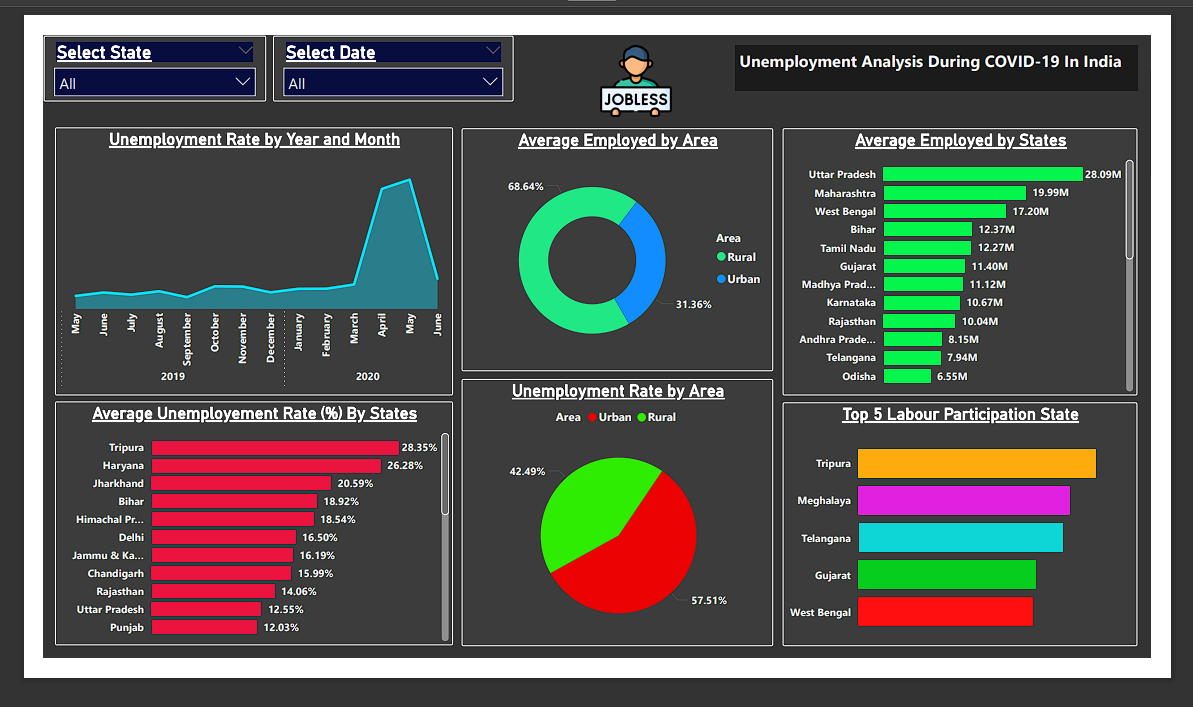

The dashboard page shown, as its layout file describes it:
{"tool":"powerbi","page":{"name":"Page 1","canvas":[1280,720],"ordinal":0},"visuals":[{"type":"clusteredBarChart","title":"Average Unemployement Rate (%) By States","fields":{"Category":["Unemployment in India.Region"],"Y":["Avg(Unemployment in India.Percentage)"]},"box":[12.5,422.5,460,282.5],"z":0},{"type":"stackedAreaChart","title":"Unemployment Rate by Year and Month","fields":{"Category":["Unemployment in India. Date.Variation.Date Hierarchy.Year","Unemployment in India. Date.Variation.Date Hierarchy.Month"],"Y":["Sum(Unemployment in India. Estimated Unemployment Rate (%))"]},"box":[12.9,105.7,460,310],"z":1000},{"type":"pieChart","title":"Unemployment Rate by Area","fields":{"Category":["Unemployment in India.Area"],"Y":["Sum(Unemployment in India. Estimated Unemployment Rate (%))"]},"box":[482.6,396.9,360.7,308.8],"z":2000},{"type":"clusteredBarChart","title":"Top 5 Labour Participation State","fields":{"Category":["Unemployment in India.Region"],"Y":["Sum(Unemployment in India. Estimated Labour Participation Rate (%))"]},"box":[853.8,423.8,410,282.5],"z":3000},{"type":"barChart","title":"Average Employed by States","fields":{"Category":["Unemployment in India.Region"],"Y":["Avg(Unemployment in India. Estimated Employed)"]},"box":[854.3,107.1,410,308.6],"z":4000},{"type":"donutChart","title":"Average Employed by Area","fields":{"Category":["Unemployment in India.Area"],"Y":["Sum(Unemployment in India. Estimated Employed)"]},"box":[482.6,107.4,360.7,281.1],"z":5000},{"type":"textbox","box":[798.7,10.9,465.7,53.1],"z":7000},{"type":"image","box":[639.4,0,91.7,103.8],"z":8000},{"type":"slicer","fields":{"Values":["Unemployment in India.Region"]},"box":[0,0,257,76],"z":12000},{"type":"slicer","fields":{"Values":["Unemployment in India. Date.Variation.Date Hierarchy.Year","Unemployment in India. Date.Variation.Date Hierarchy.Month"]},"box":[265.4,0,277.5,76],"z":13000}]}

Visuals, with their boxes on the page's 1280x720 design canvas (x1, y1, x2, y2). These are canvas units, not pixel positions in the 1193x707 screenshot, which may show the page scaled, cropped or inside an application window:
"Average Unemployement Rate (%) By States" clusteredBarChart: box=[12, 422, 472, 705]
"Unemployment Rate by Year and Month" stackedAreaChart: box=[13, 106, 473, 416]
"Unemployment Rate by Area" pieChart: box=[483, 397, 843, 706]
"Top 5 Labour Participation State" clusteredBarChart: box=[854, 424, 1264, 706]
"Average Employed by States" barChart: box=[854, 107, 1264, 416]
"Average Employed by Area" donutChart: box=[483, 107, 843, 388]
textbox: box=[799, 11, 1264, 64]
image: box=[639, 0, 731, 104]
slicer - Unemployment in India.Region: box=[0, 0, 257, 76]
slicer - Unemployment in India. Date.Variation.Date Hierarchy.Year x Unemployment in India. Date.Variation.Date Hierarchy.Month: box=[265, 0, 543, 76]
